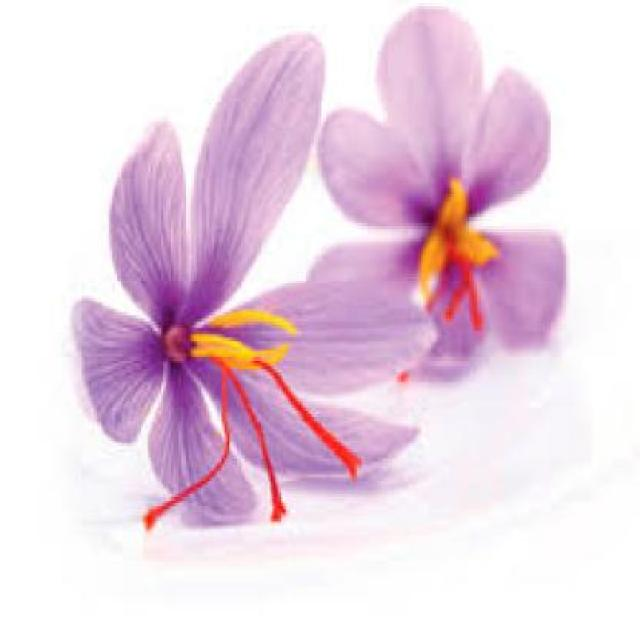saffron open: (75, 35, 429, 526), (309, 8, 565, 378)
